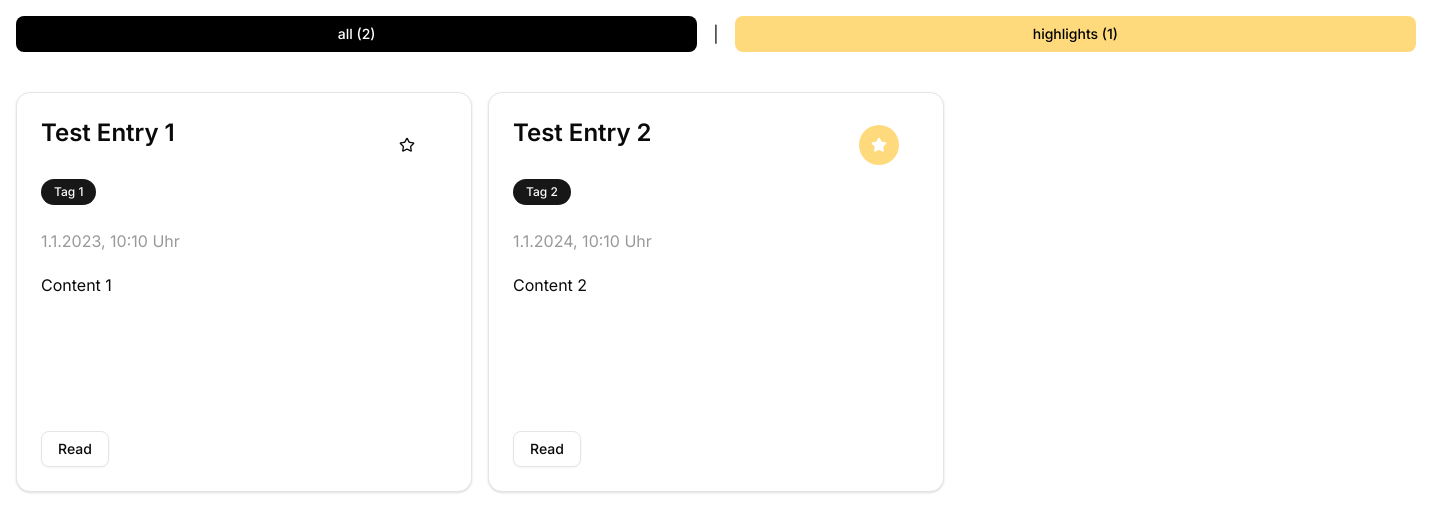
Test: SwitchDisplay › switches to highlights when highlights button is clicked
The width and height of the screenshot is (1433, 510).
Click the button with aria-label "switchHighlight". click: (1075,34)
box: [735,16,1416,52]
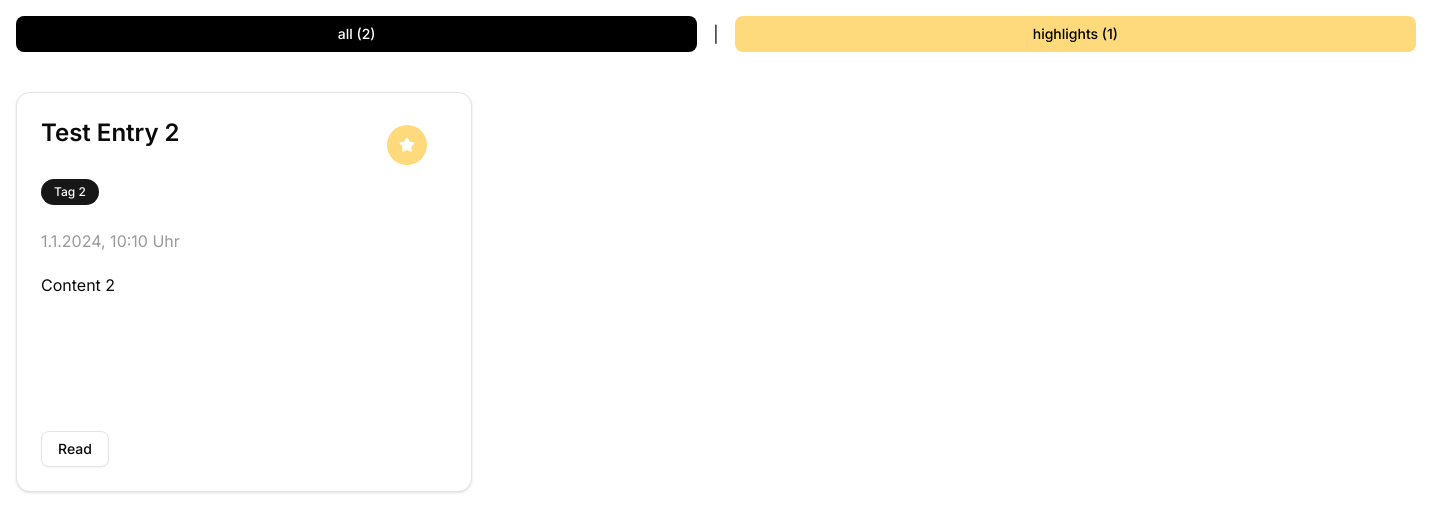
expect the heading "Test Entry 2" is shown: met, box [41,118,180,147]
expect the heading "Test Entry 1" is gone: met
